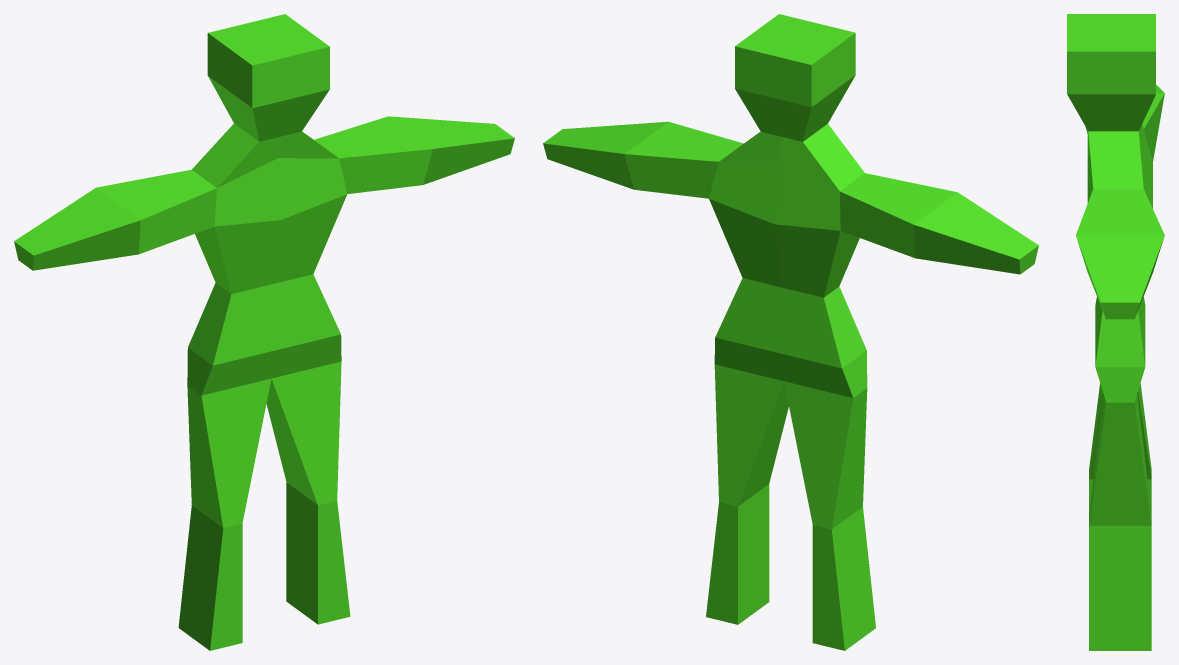
The model's file is Enemy.fbx.
The picture shows the model from 3 angles, left to right: view 1: azimuth 30°, elevation 25°; view 2: azimuth 150°, elevation 25°; view 3: azimuth 270°, elevation 25°; orthographic projection.
Parts seen in each view (by area): view 1: Cube; view 2: Cube; view 3: Cube.
Part boxes in pixels (box(x1,y1,x2,y2)): Cube: box(14, 14, 514, 650); Cube: box(543, 14, 1038, 650); Cube: box(1067, 14, 1164, 650).
Bounding box in the file's own units: 560 × 652 × 98.91.
